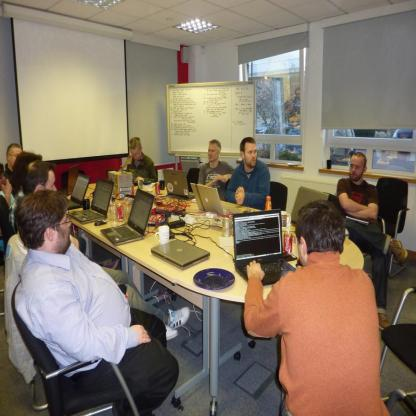board: (232, 209, 297, 286), (68, 177, 114, 225), (117, 186, 154, 240), (190, 182, 241, 218), (151, 239, 210, 270), (290, 186, 329, 228), (162, 169, 195, 200), (68, 172, 91, 209), (57, 163, 80, 197), (124, 194, 132, 222), (285, 229, 293, 254), (111, 196, 117, 228), (222, 219, 231, 238), (117, 203, 125, 221), (266, 197, 273, 214), (155, 181, 161, 196)
